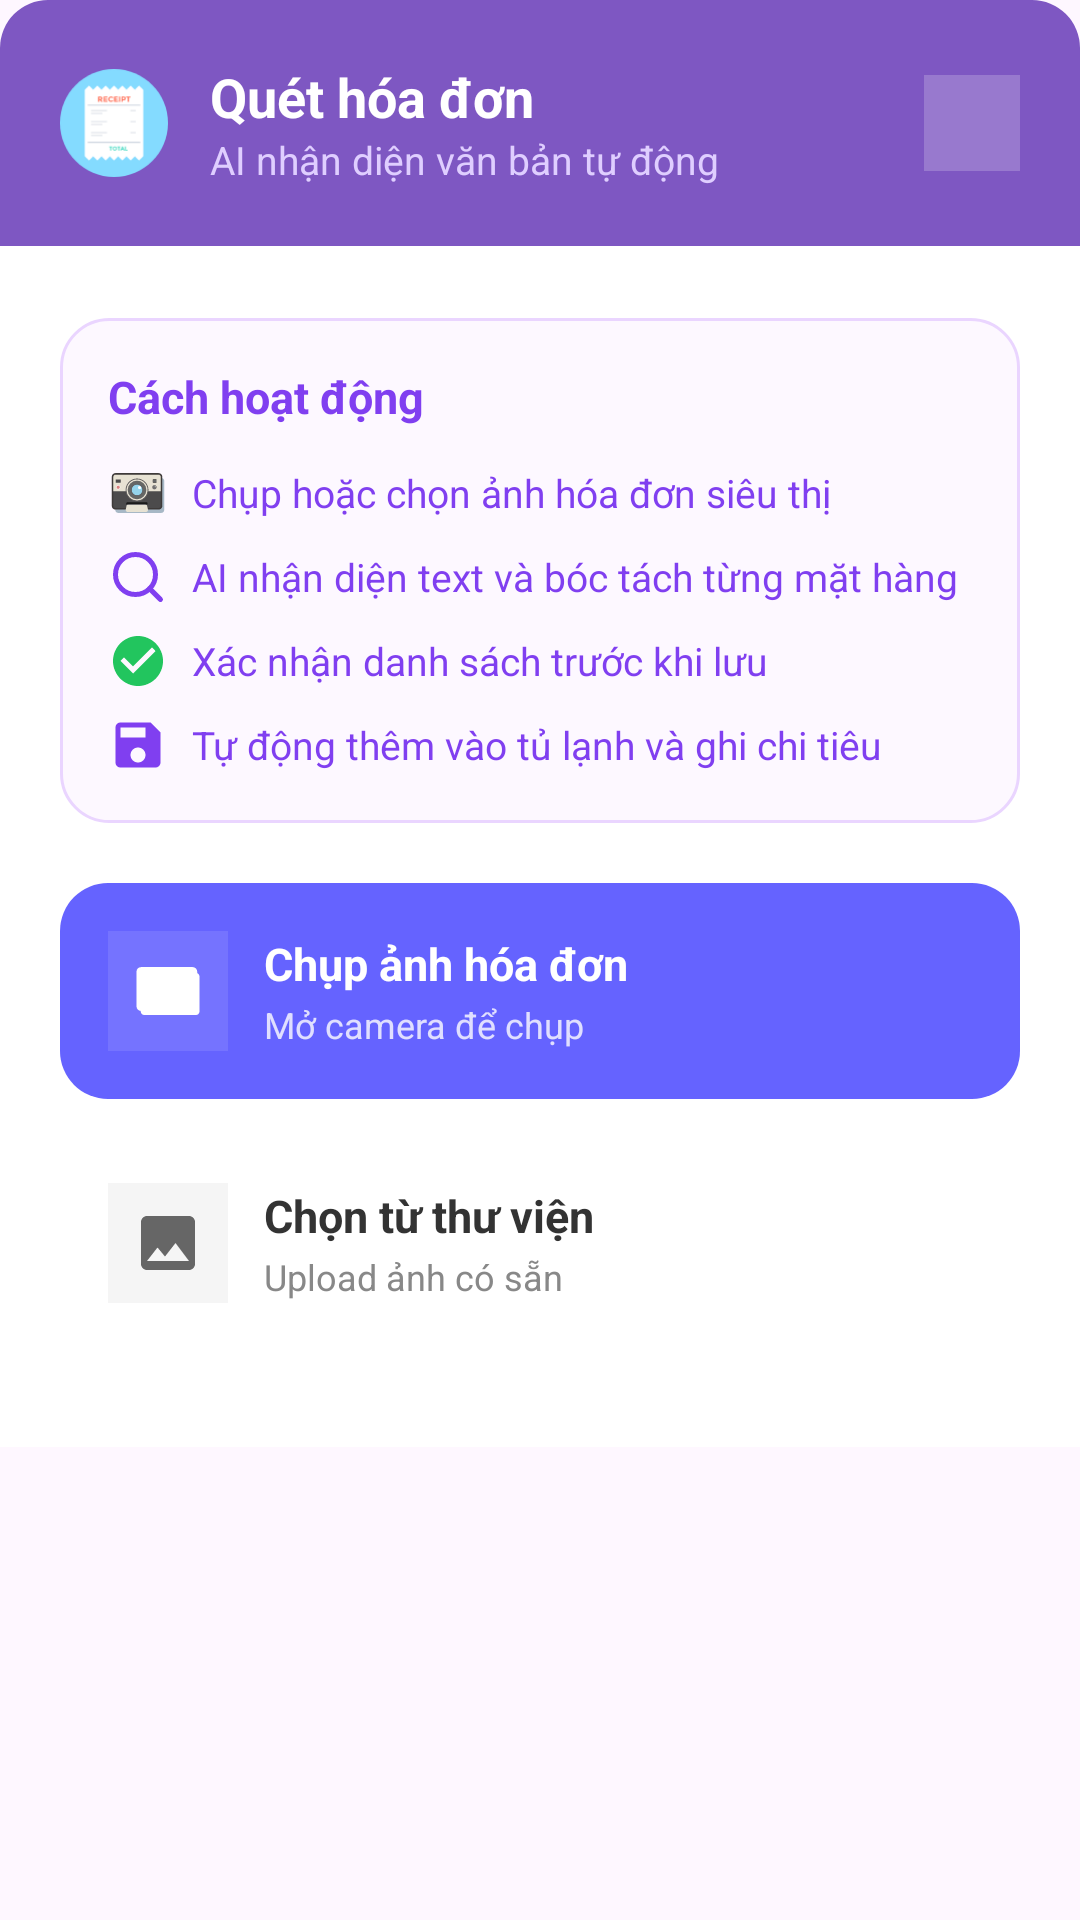

Named icons in this screenshot (1080px×1920px) and their bounding boxes, {"left": x1, "top": y1, "right": x2, "bottom": y2}:
Tìm kiếm: {"left": 113, "top": 552, "right": 163, "bottom": 602}
